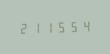five: (66, 19, 77, 33), (54, 20, 65, 33)
four: (78, 19, 89, 32)
one: (29, 20, 40, 34), (42, 20, 53, 34)
two: (17, 21, 28, 34)
